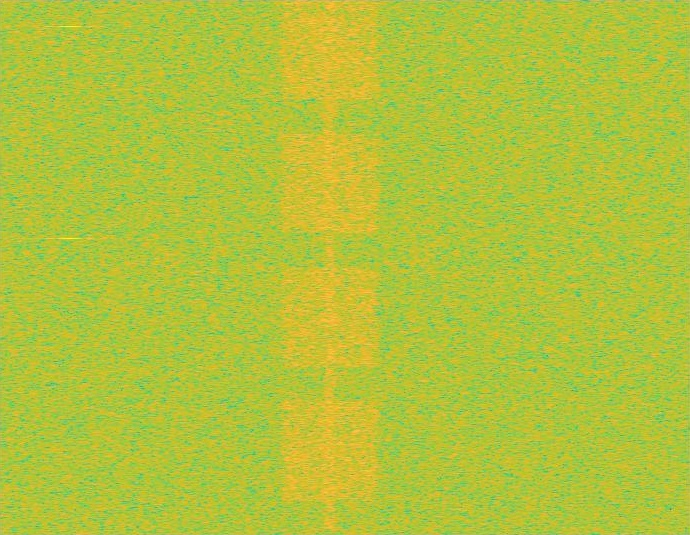5G: (278, 0, 382, 534)
DSSS: (323, 0, 337, 534)
Radar: (62, 0, 76, 534)
